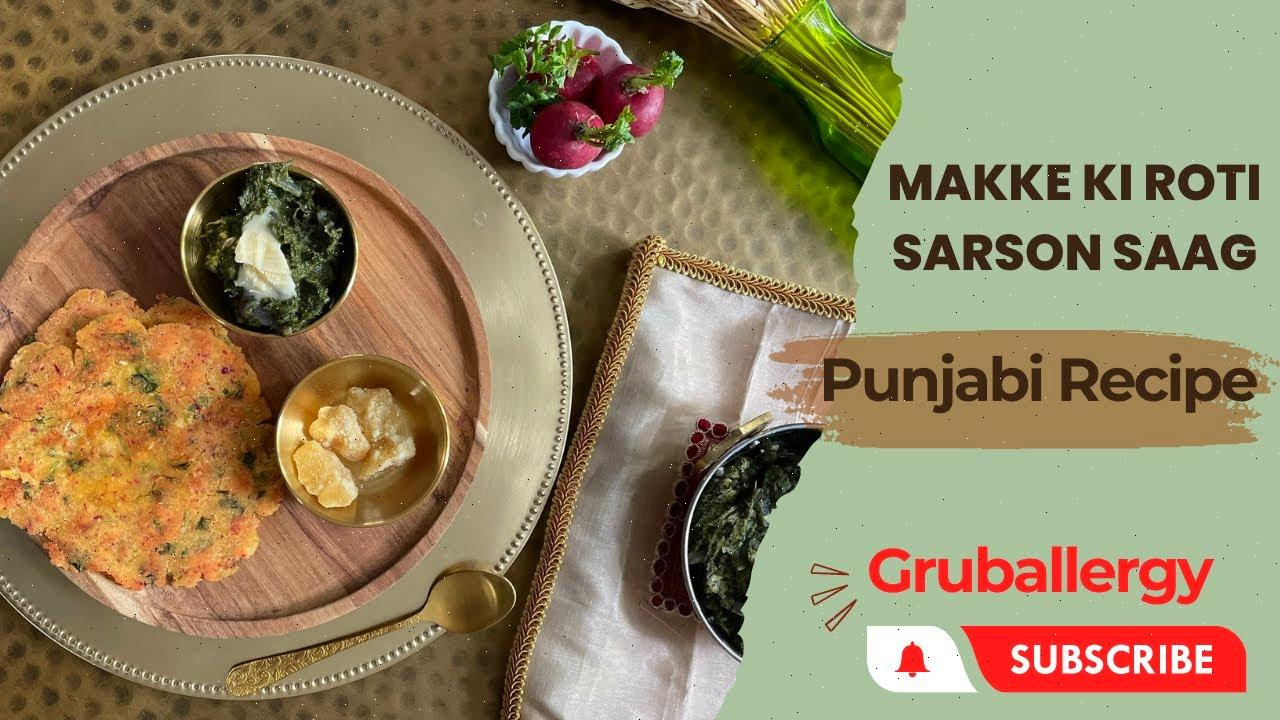saag: (197, 165, 337, 344)
